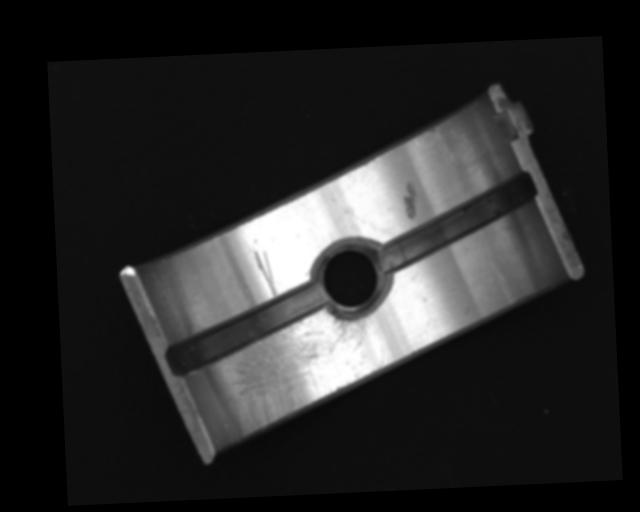bruise: (401, 180, 422, 220)
gap: (369, 172, 540, 274), (163, 283, 326, 376)
hole: (312, 240, 391, 317)
nick: (253, 248, 277, 299)
scratch: (226, 309, 384, 440)
